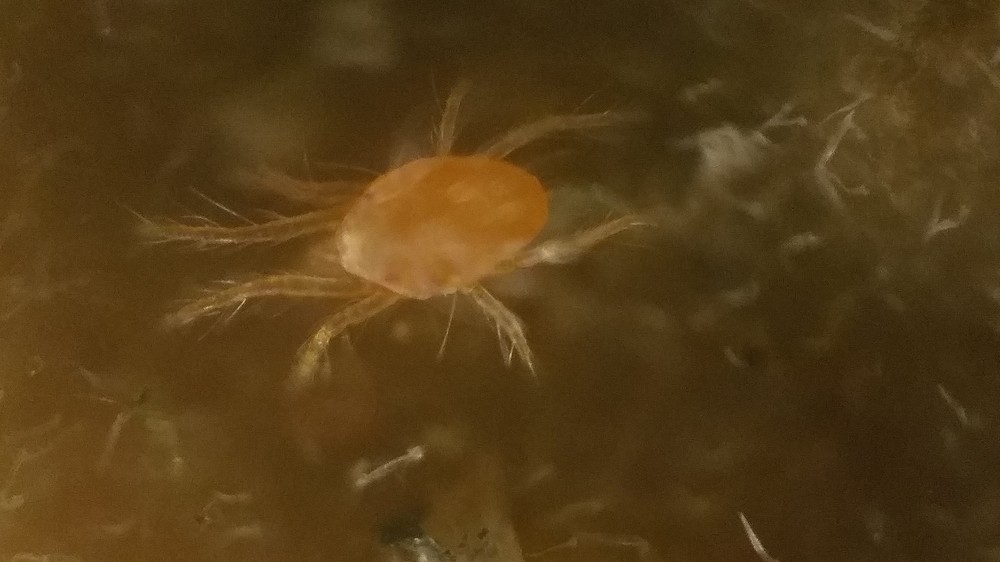Aracnido Rojo: (151, 78, 617, 385)
